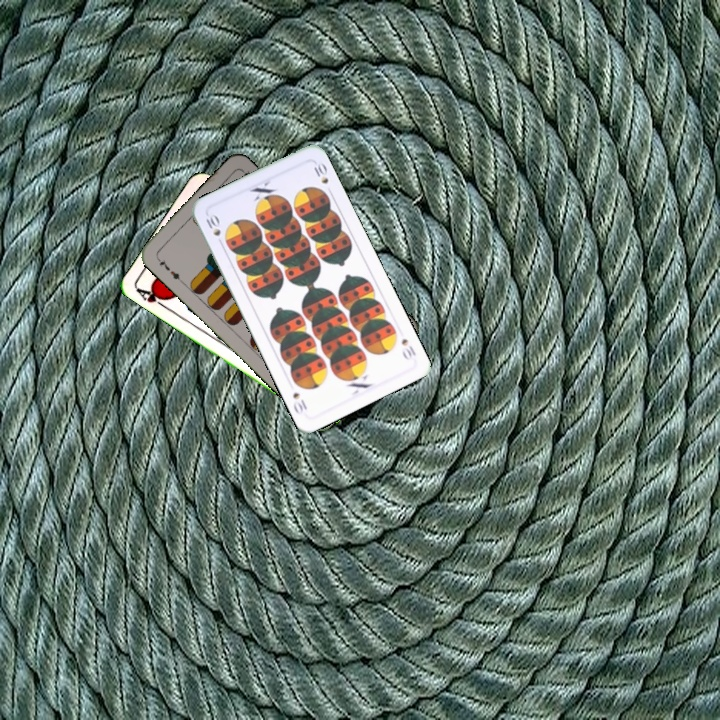E7: (153, 253, 186, 285)
HA: (132, 284, 170, 311)
S10: (202, 209, 226, 249), (397, 334, 419, 363)
